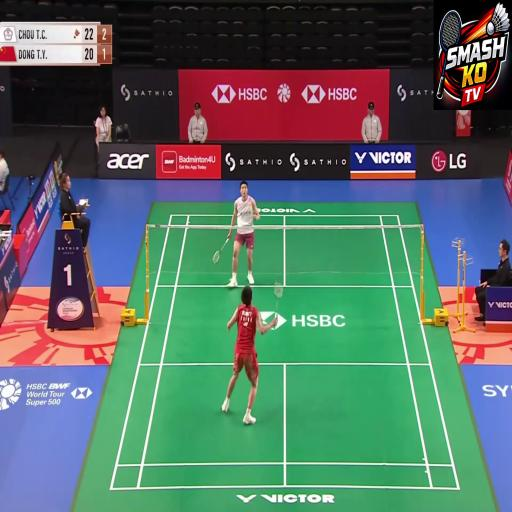player: (219, 278, 261, 422), (230, 158, 264, 298)
